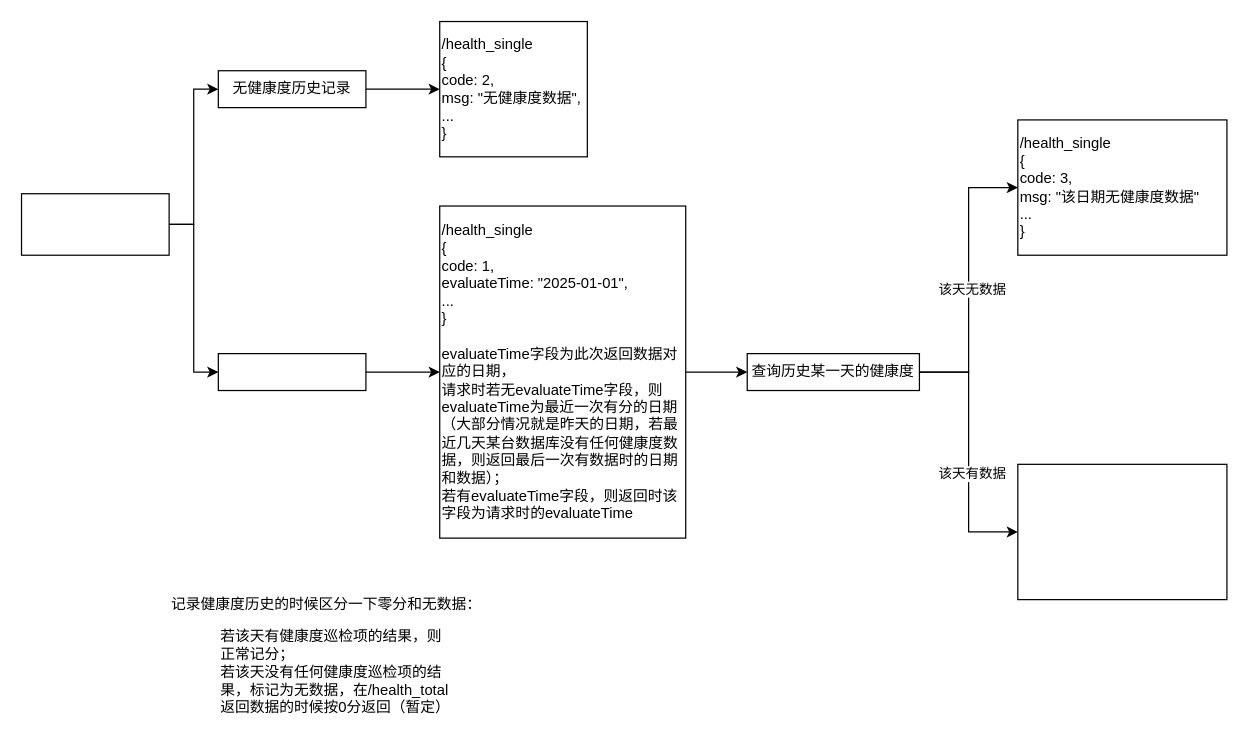
The diagram is 1248 pixels wide and 748 high, and some of its shapes have lost their labels. The centre of each missing label's shape, as x and y in pixels:
"/health_single { code: 1, ... }" belongs at [1122,531].
"有健康度历史记录" belongs at [291,371].
"选择某数据库 点击“查看健康度”" belongs at [94,223].
